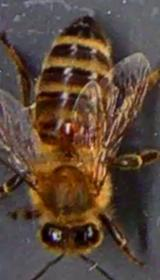varroa_mite: (52, 121, 84, 139)
